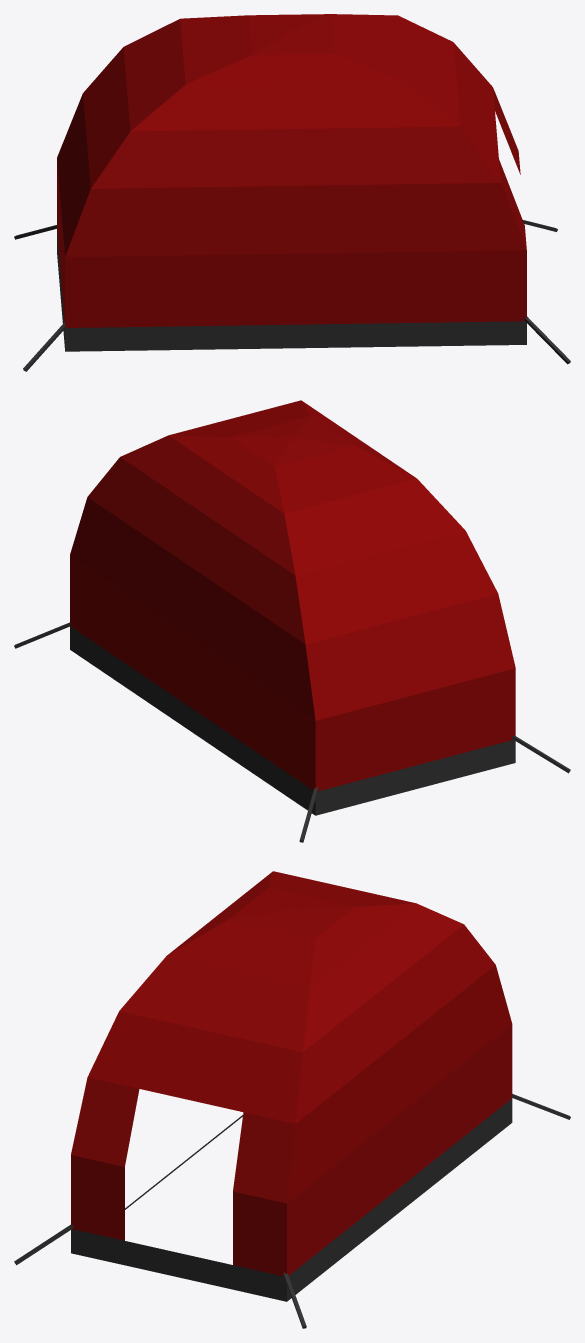
File: Backpacking1.glb
3 renders of one model, top to bottom at view 1: azimuth 30°, elevation 25°; view 2: azimuth 150°, elevation 25°; view 3: azimuth 270°, elevation 25°, orthographic. The views are drawn at different scales.
Parts seen in each view (by area): view 1: Box001; view 2: Box001; view 3: Box001.
Part boxes in pixels (bbox=[...]): Box001: bbox=[57, 14, 526, 351]; Box001: bbox=[70, 400, 515, 815]; Box001: bbox=[71, 871, 512, 1301].
Bounding box in the file's own units: 2009970 × 955185 × 1712821.
